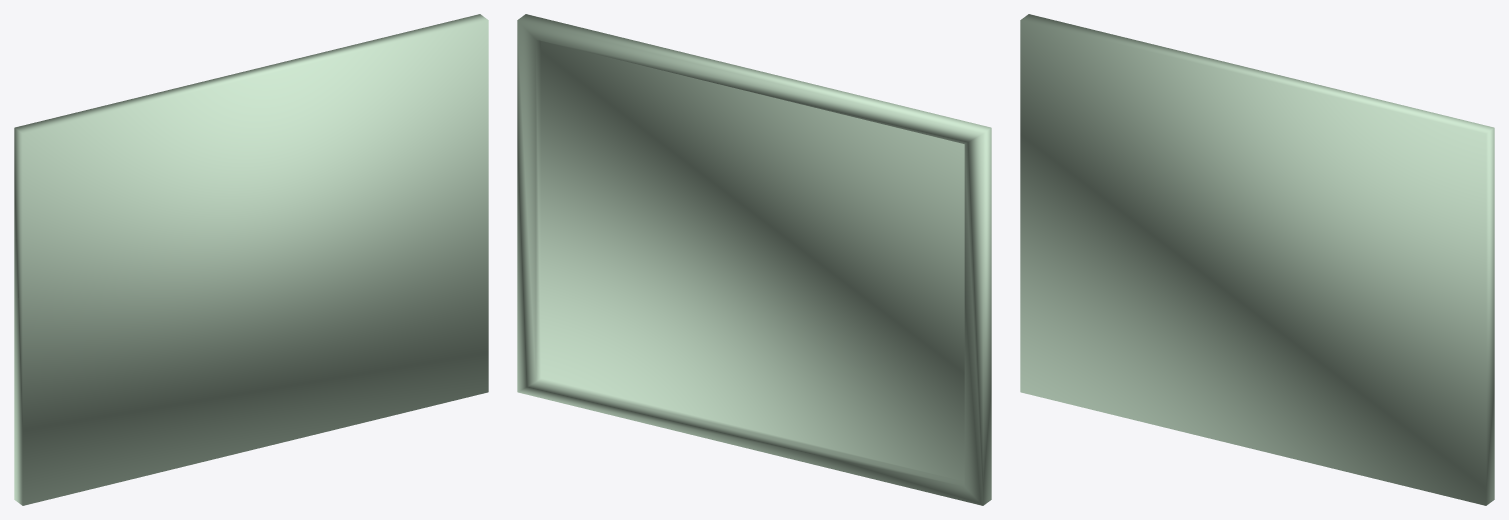
File: LavagnaAutunno.fbx
3 views of the same model, side by side, from view 1: azimuth 30°, elevation 25°; view 2: azimuth 150°, elevation 25°; view 3: azimuth 330°, elevation 25° (orthographic).
Parts seen in each view (by area): view 1: LavagnettaStagioni; view 2: LavagnettaStagioni; view 3: LavagnettaStagioni.
Part boxes in pixels (x1,y1,x2,y2): LavagnettaStagioni: (14,14,488,505); LavagnettaStagioni: (517,14,991,505); LavagnettaStagioni: (1020,14,1494,505).
Bounding box in the file's own units: 282 × 215 × 8.91.
